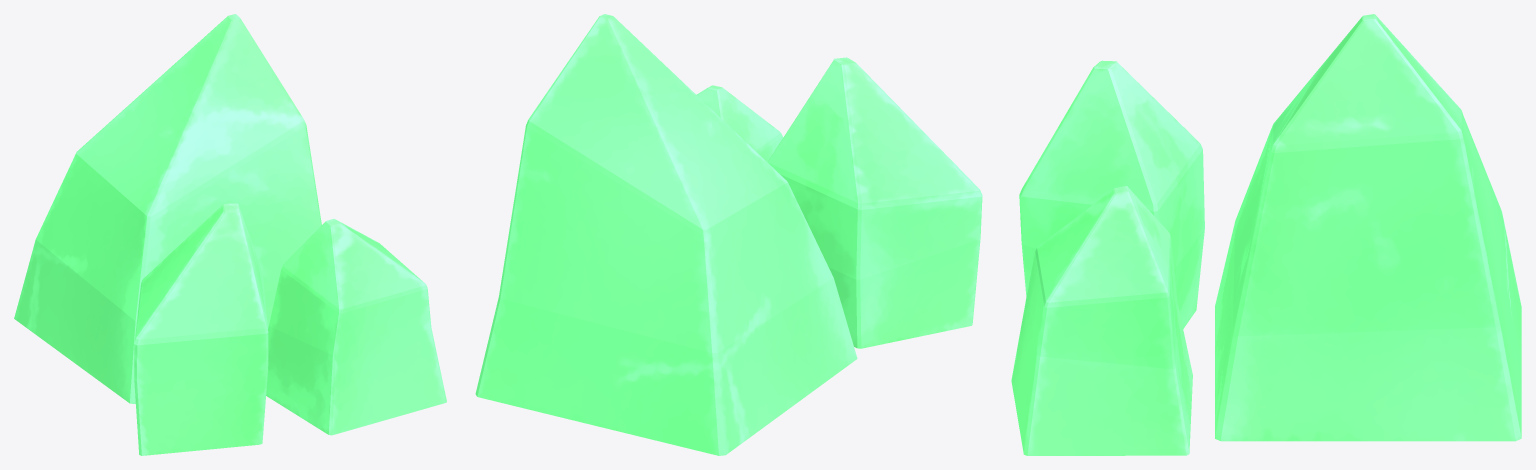
Rendered from Gem_3.fbx.
The picture shows the model from 3 angles, left to right: view 1: azimuth 30°, elevation 25°; view 2: azimuth 150°, elevation 25°; view 3: azimuth 270°, elevation 25°; orthographic projection. The views are drawn at different scales.
Visible parts, largest first — view 1: gem.003; view 2: gem.003; view 3: gem.003.
Part boxes in pixels (left/top/right/bottom): gem.003: left=14, top=14, right=446, bottom=455; gem.003: left=475, top=14, right=982, bottom=455; gem.003: left=1011, top=14, right=1521, bottom=455.
Size of the model in its own units: 1.01 by 1 by 1.19.
1 material, 1 textured.
